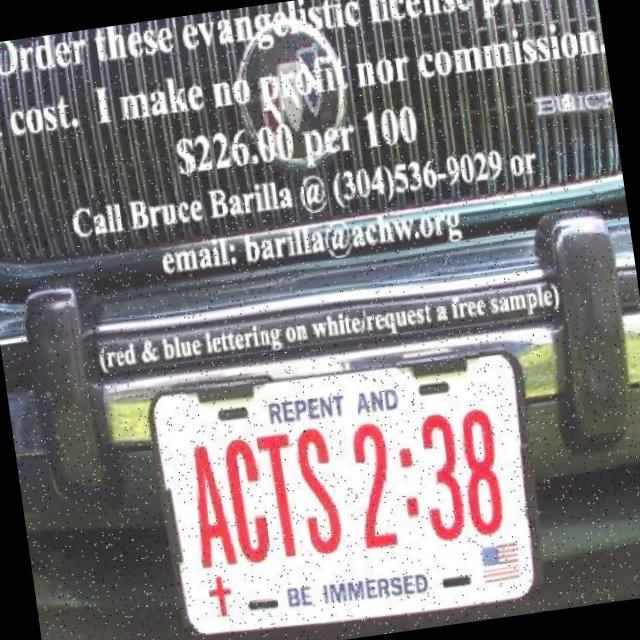LicensePlate: (147, 341, 543, 640)
